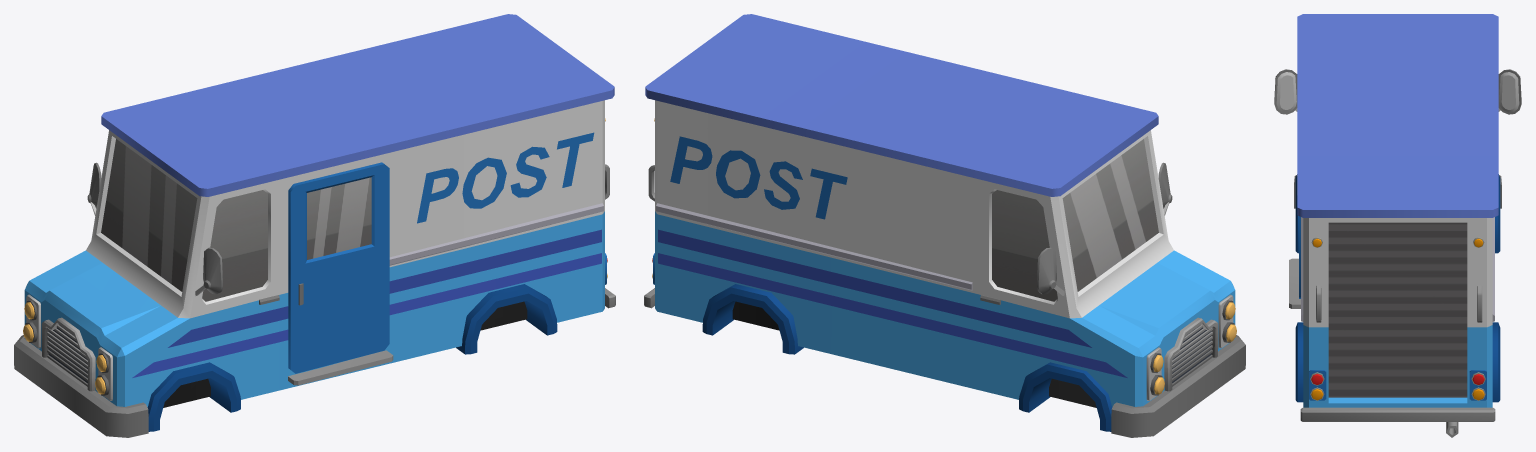
Rendered from PostCar_1_C.fbx.
The picture shows the model from 3 angles, left to right: view 1: azimuth 30°, elevation 25°; view 2: azimuth 150°, elevation 25°; view 3: azimuth 270°, elevation 25°; orthographic projection. The views are drawn at different scales.
Visible parts, largest first — view 1: PostCar_1_C; view 2: PostCar_1_C; view 3: PostCar_1_C.
Part boxes in pixels (box(x1,y1,x2,y2)): PostCar_1_C: box(14, 14, 615, 437); PostCar_1_C: box(644, 14, 1245, 437); PostCar_1_C: box(1274, 14, 1521, 437).
Size of the model in its own units: 414 by 181 by 180.
